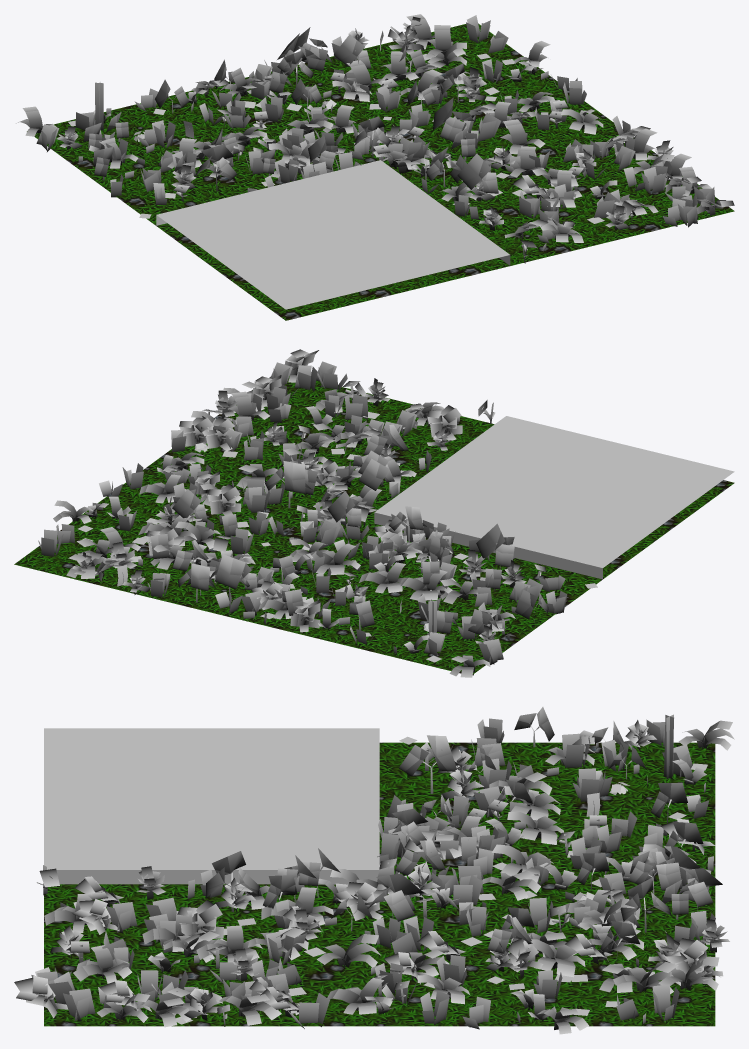
File: GrassSidewalk.fbx
3 renders of one model, top to bottom at view 1: azimuth 30°, elevation 25°; view 2: azimuth 150°, elevation 25°; view 3: azimuth 270°, elevation 25°, orthographic. The views are drawn at different scales.
Visible parts, largest first — view 1: GrassSideWalkCorner; view 2: GrassSideWalkCorner; view 3: GrassSideWalkCorner.
Part boxes in pixels (x1,y1,x2,y2): GrassSideWalkCorner: (16, 14, 734, 320); GrassSideWalkCorner: (14, 349, 734, 677); GrassSideWalkCorner: (14, 707, 734, 1034).
Size of the model in its own units: 5.3 by 0.5484 by 5.37.
